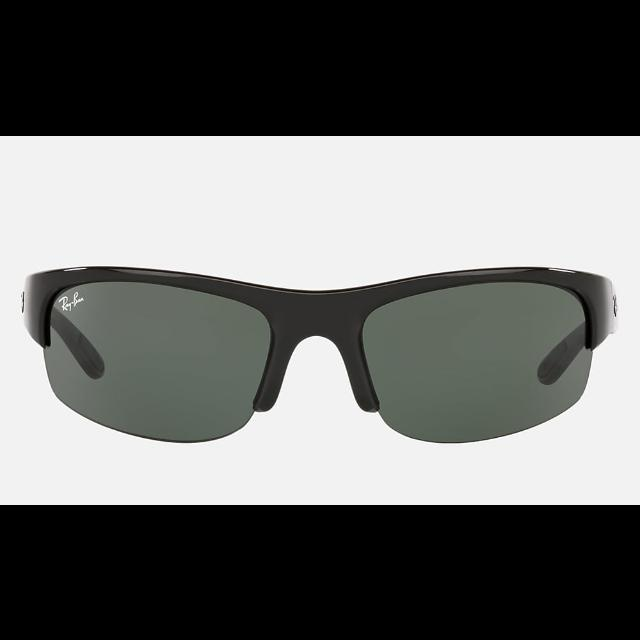Sunglasses: (22, 266, 618, 442)
